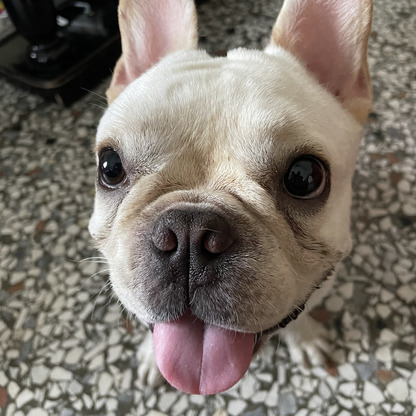bulldog: (84, 1, 382, 401)
